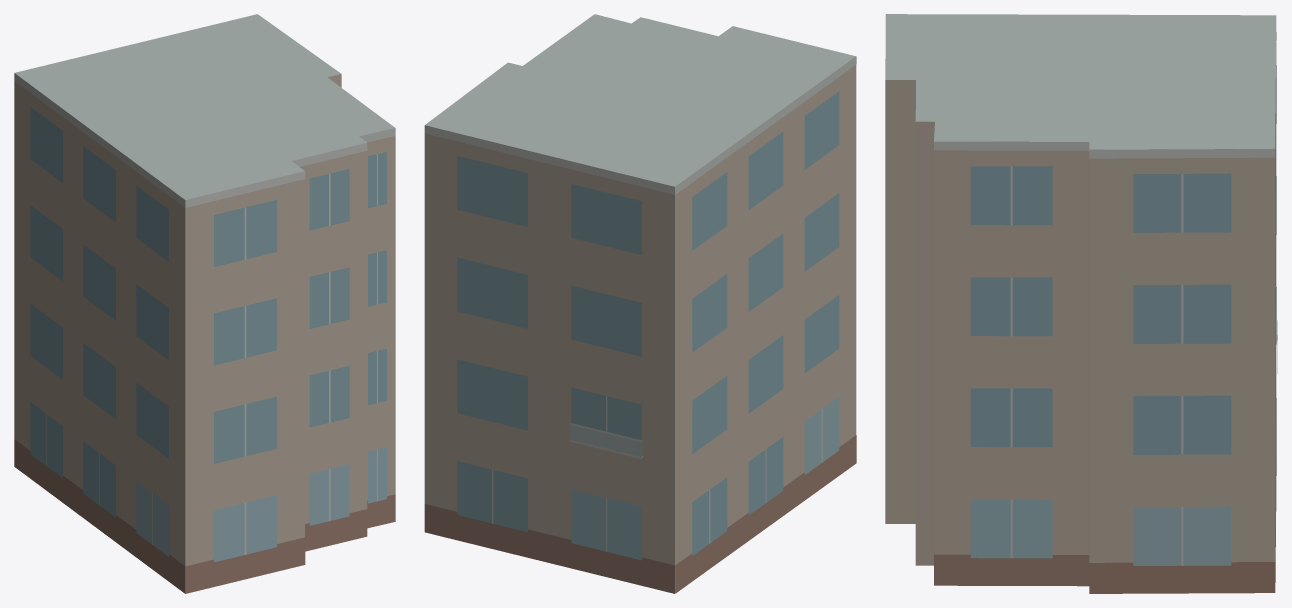
File: survey-upis-32779957.glb
3 renders of one model, left to right at view 1: azimuth 30°, elevation 25°; view 2: azimuth 150°, elevation 25°; view 3: azimuth 270°, elevation 25°, orthographic. The views are drawn at different scales.
Parts seen in each view (by area): view 1: survey-upis-32779957.tmp; view 2: survey-upis-32779957.tmp; view 3: survey-upis-32779957.tmp.
Part boxes in pixels (x1,y1,x2,y2): survey-upis-32779957.tmp: (14,14,395,593); survey-upis-32779957.tmp: (424,14,856,593); survey-upis-32779957.tmp: (885,14,1277,593).
Size of the model in its own units: 8.01 by 12.2 by 9.78.
